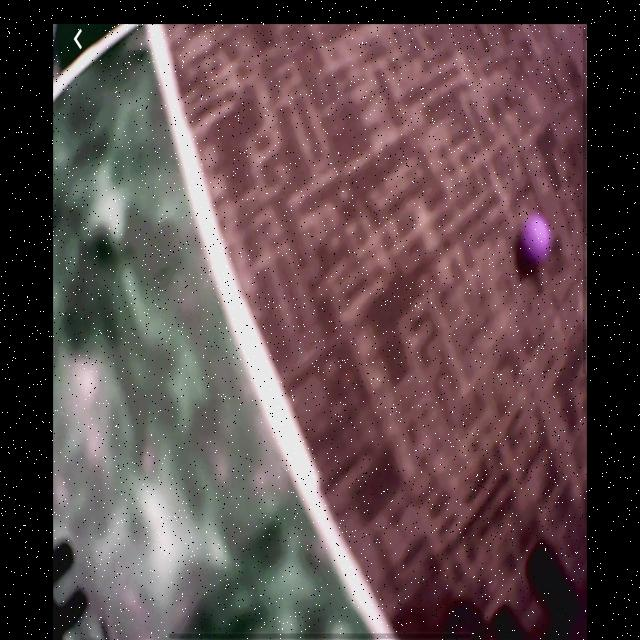ball: (522, 215, 555, 266)
